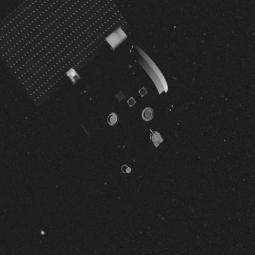proba_3_csc: (43, 13, 178, 177)
